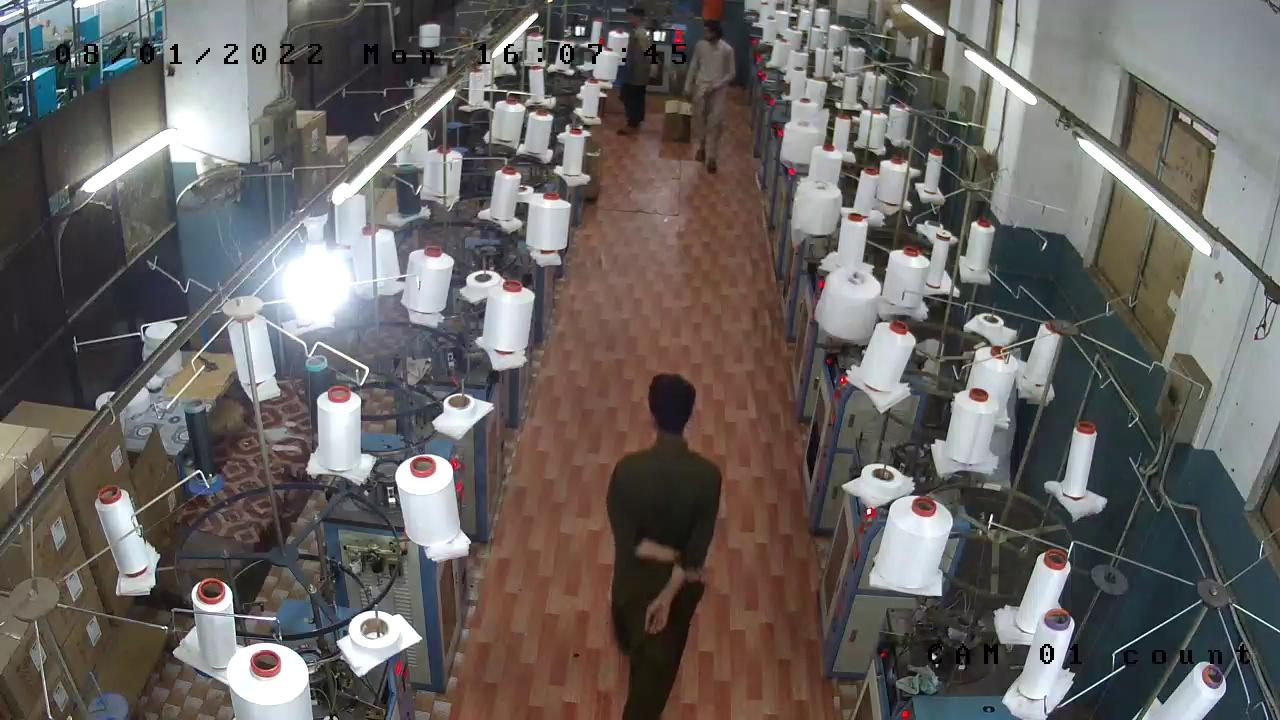person: (622, 372, 704, 720), (702, 15, 734, 170), (624, 10, 649, 133)
